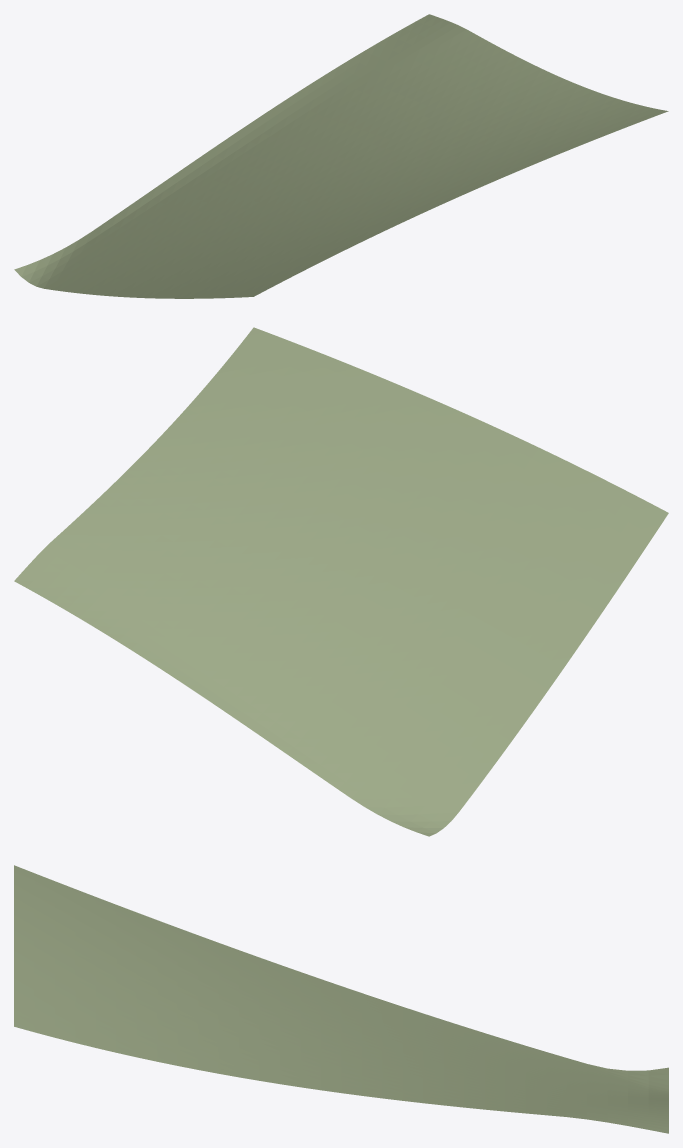
Rendered from alpine-7-3.glb.
The picture shows the model from 3 angles, top to bottom: view 1: azimuth 30°, elevation 25°; view 2: azimuth 150°, elevation 25°; view 3: azimuth 270°, elevation 25°; orthographic projection. The views are drawn at different scales.
Visible parts, largest first — view 1: alpine-7-3; view 2: alpine-7-3; view 3: alpine-7-3.
Boxes of the visible parts, x1,y1,x2,y2 form: alpine-7-3: (14,14,668,298); alpine-7-3: (14,327,668,836); alpine-7-3: (14,865,668,1133).
Size of the model in its own units: 256 by 138 by 256.
